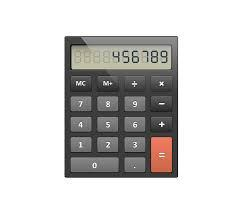Calculator: (59, 30, 187, 183)
